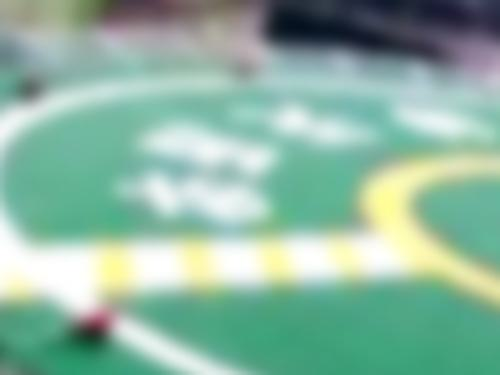Apron: (352, 131, 500, 325)
